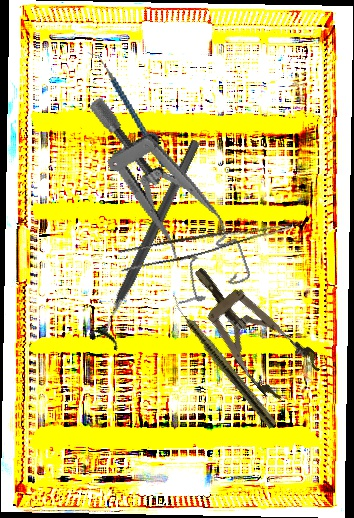Chopper: (86, 41, 168, 178)
Fixation Ring: (85, 133, 213, 352)
Handpiece: (166, 295, 280, 430)
Speculum: (85, 69, 255, 317), (173, 247, 326, 409)
Tissue Forceps: (115, 202, 295, 278)
